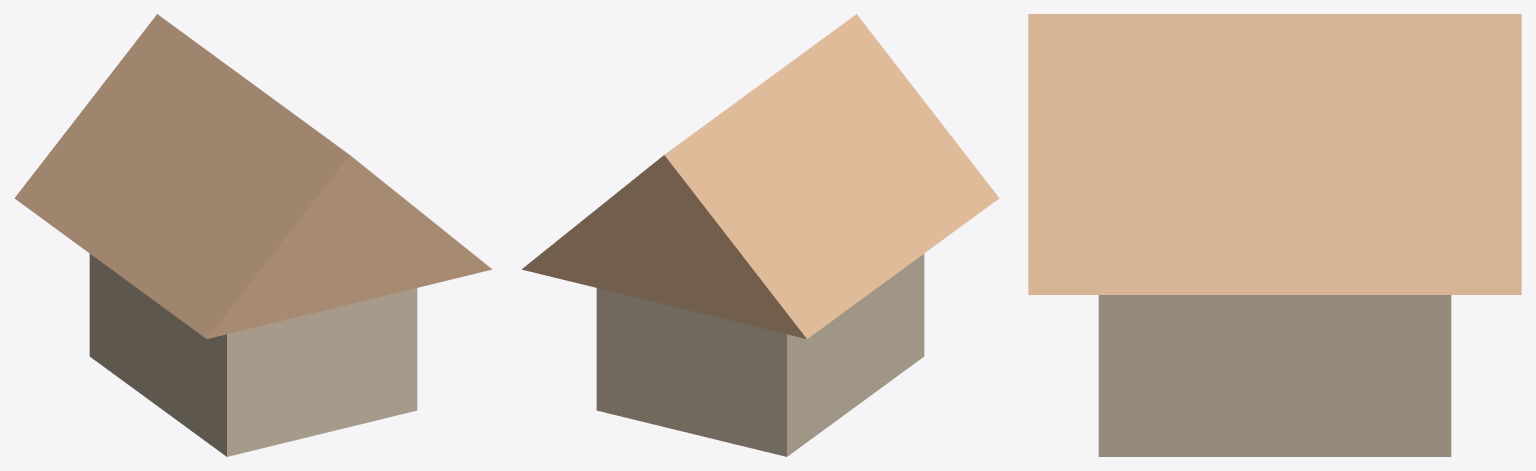
The model's file is SubstitutionAsset_House_TraditionalHut.fbx.
3 renders of one model, left to right at view 1: azimuth 30°, elevation 25°; view 2: azimuth 150°, elevation 25°; view 3: azimuth 270°, elevation 25°, orthographic. The views are drawn at different scales.
Visible parts, largest first — view 1: FR_SUB_SubstitutionAsset_House_TraditionalHut; view 2: FR_SUB_SubstitutionAsset_House_TraditionalHut; view 3: FR_SUB_SubstitutionAsset_House_TraditionalHut.
Boxes of the visible parts, box(x1,y1,x2,y2) form: FR_SUB_SubstitutionAsset_House_TraditionalHut: box(14, 14, 492, 456); FR_SUB_SubstitutionAsset_House_TraditionalHut: box(521, 14, 999, 456); FR_SUB_SubstitutionAsset_House_TraditionalHut: box(1028, 14, 1521, 456).
Size of the model in its own units: 120 by 140 by 120.
